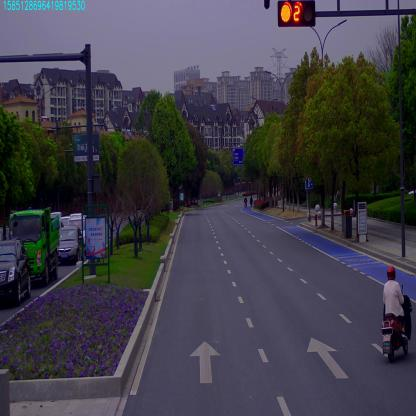traffic-light: (278, 4, 314, 29)
